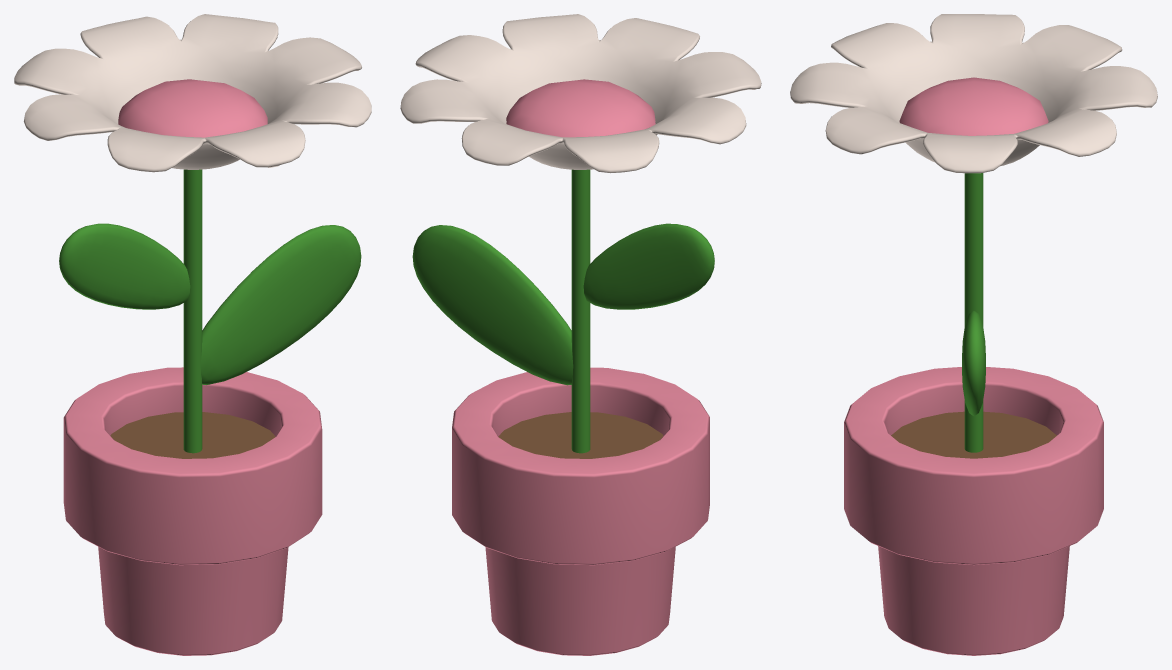
File: Flower_11.glb
3 views of the same model, side by side, from view 1: azimuth 30°, elevation 25°; view 2: azimuth 150°, elevation 25°; view 3: azimuth 270°, elevation 25° (orthographic).
Visible parts, largest first — view 1: Flower_10; view 2: Flower_10; view 3: Flower_10.
Boxes of the visible parts, x1,y1,x2,y2 form: Flower_10: [14, 14, 371, 655]; Flower_10: [400, 14, 761, 655]; Flower_10: [790, 14, 1157, 655].
Bounding box in the file's own units: 0.4735 × 0.7414 × 0.4607.
1 material, 1 textured.
